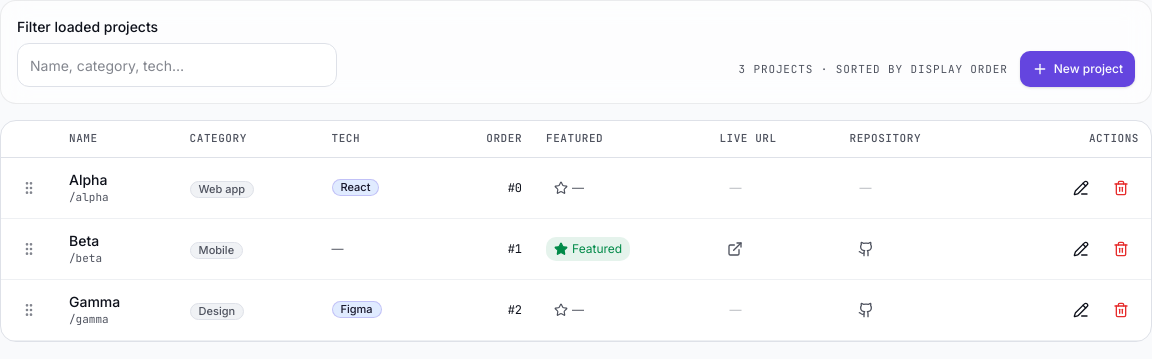
ProjectsView — filter safety › disables dragging while a search filter is active so the global order cannot be corrupted
Expected: the text "Alpha" is shown, [69,171,108,188]
Type "beta" into the search field named "Filter projects by name, category or tech" at (177, 65), box [17,43,337,87]
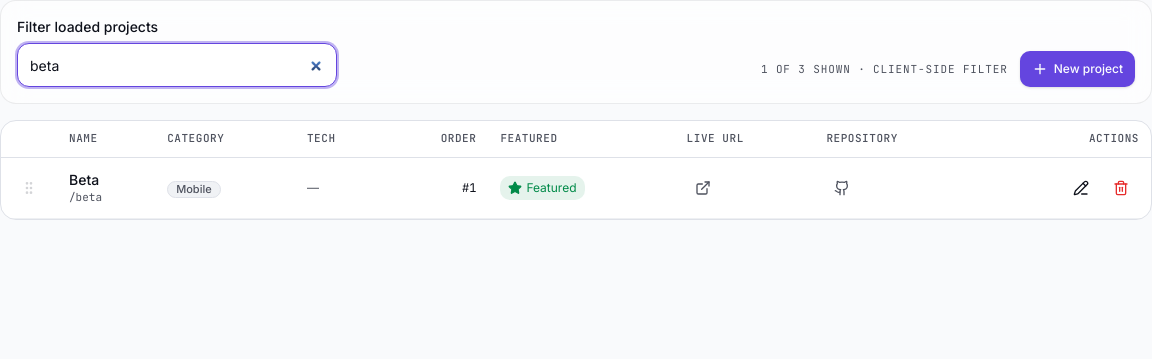
Expected: the text "1 of 3 shown · client-side filter" is shown, [761,61,1008,77]
Expected: the number of buttons named "drag to reorder" is 1, [13,172,45,204]
Expected: the button named "drag to reorder" is disabled, [13,172,45,204]
